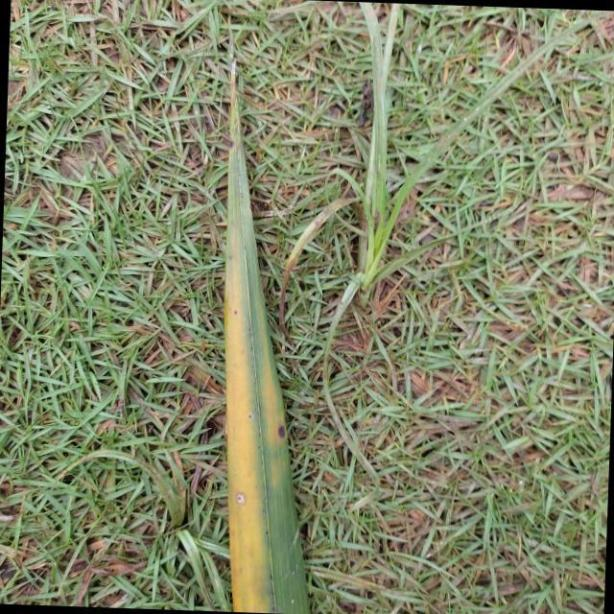Megnesium: (222, 38, 309, 614)
